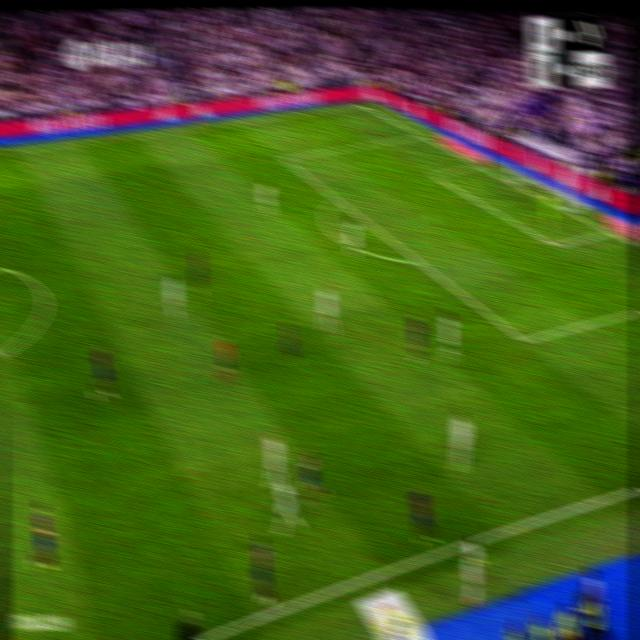bigarea_bottom_inner: (515, 328, 532, 351)
bigarea_top_inner: (279, 150, 290, 164)
bigarea_top_outter: (413, 128, 426, 139)
bottom_arc_area_intersection: (411, 252, 426, 269)
corner: (354, 96, 370, 109)
smallarea_bottom_inner: (546, 235, 561, 252)
smallarea_bottom_outter: (602, 224, 614, 237)
smallarea_top_inner: (429, 169, 439, 179)
top_arc_area_intersection: (331, 191, 343, 206)
